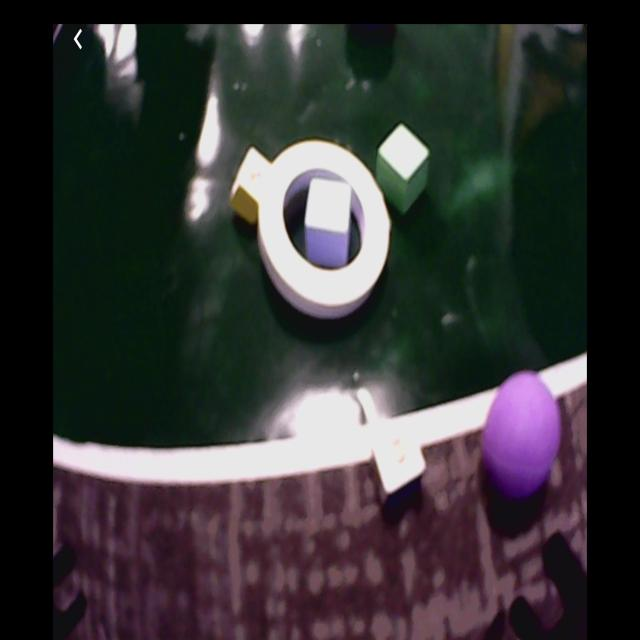ball: (484, 372, 561, 494)
